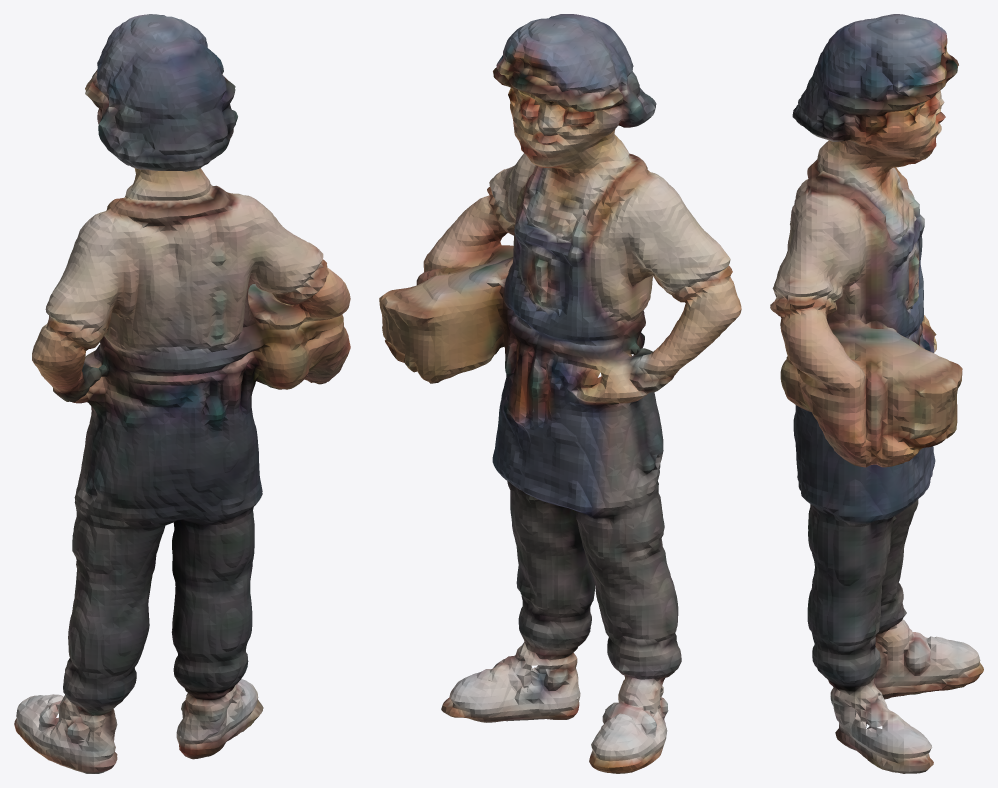
Rendered from errand.glb.
3 views of the same model, side by side, from view 1: azimuth 30°, elevation 25°; view 2: azimuth 150°, elevation 25°; view 3: azimuth 270°, elevation 25° (orthographic).
Visible parts, largest first — view 1: world; view 2: world; view 3: world.
Boxes of the visible parts, left/top/right/bottom form: world: left=14, top=14, right=350, bottom=773; world: left=379, top=14, right=741, bottom=773; world: left=770, top=14, right=983, bottom=773.
Size of the model in its own units: 0.4645 by 0.9903 by 0.2693.
